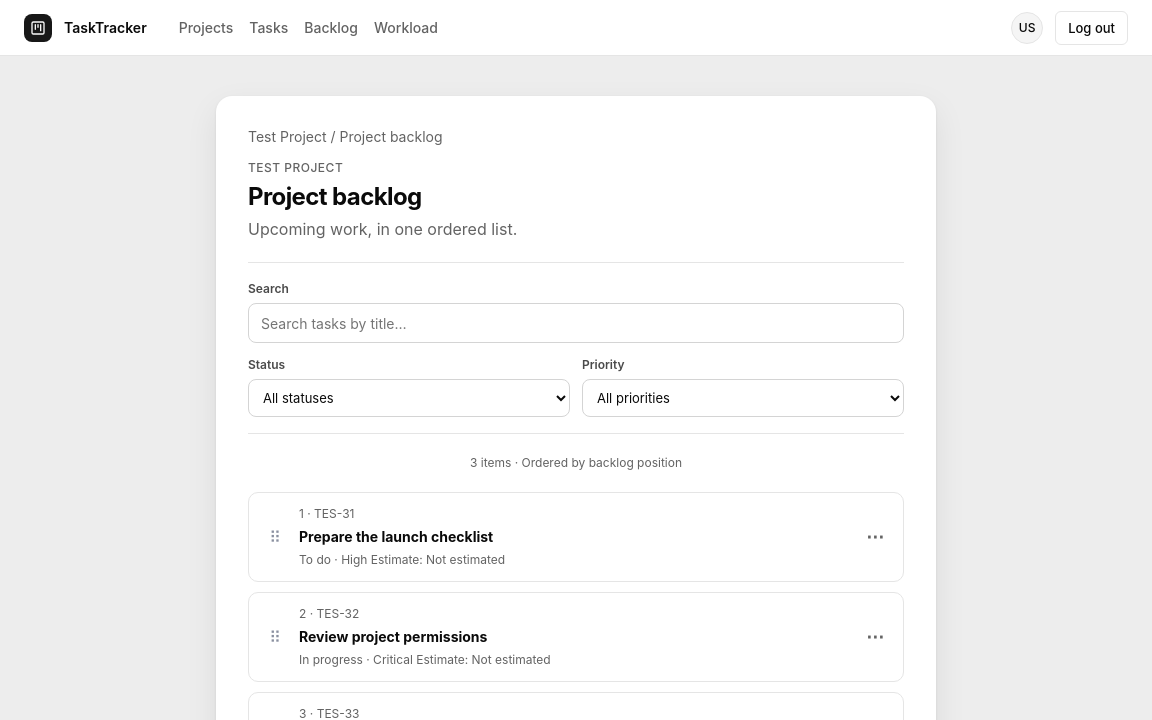
Test: [US-24] Prioritize and Reorder Backlog Items (T1WOR-163) › moves item to a global position using the Move to Position modal (State 03)
Check: the heading "Project backlog" is shown, box [248,181,422,213]
# Open item actions on task-1
Click the button with test id "backlog-item-actions-btn-task-1".
click(875, 537)  # box [861,523,889,551]
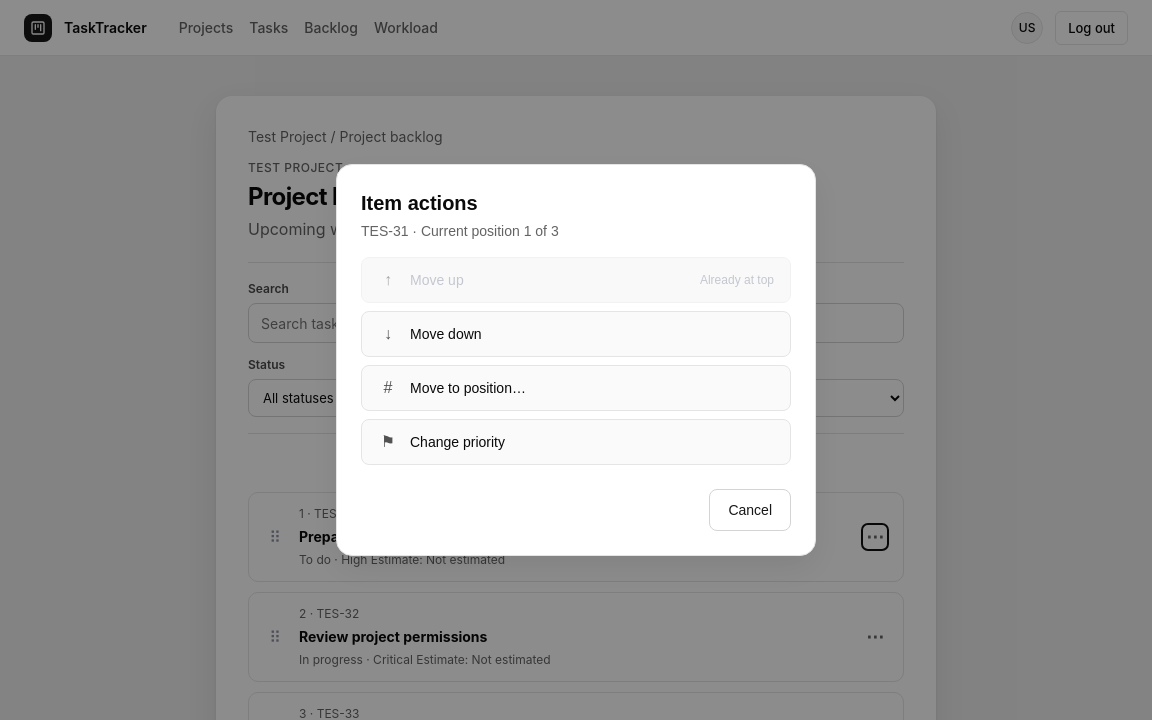
# Click "Move to position…"
Click the button with test id "backlog-action-move-position".
click(468, 388)  # box [361,365,791,411]
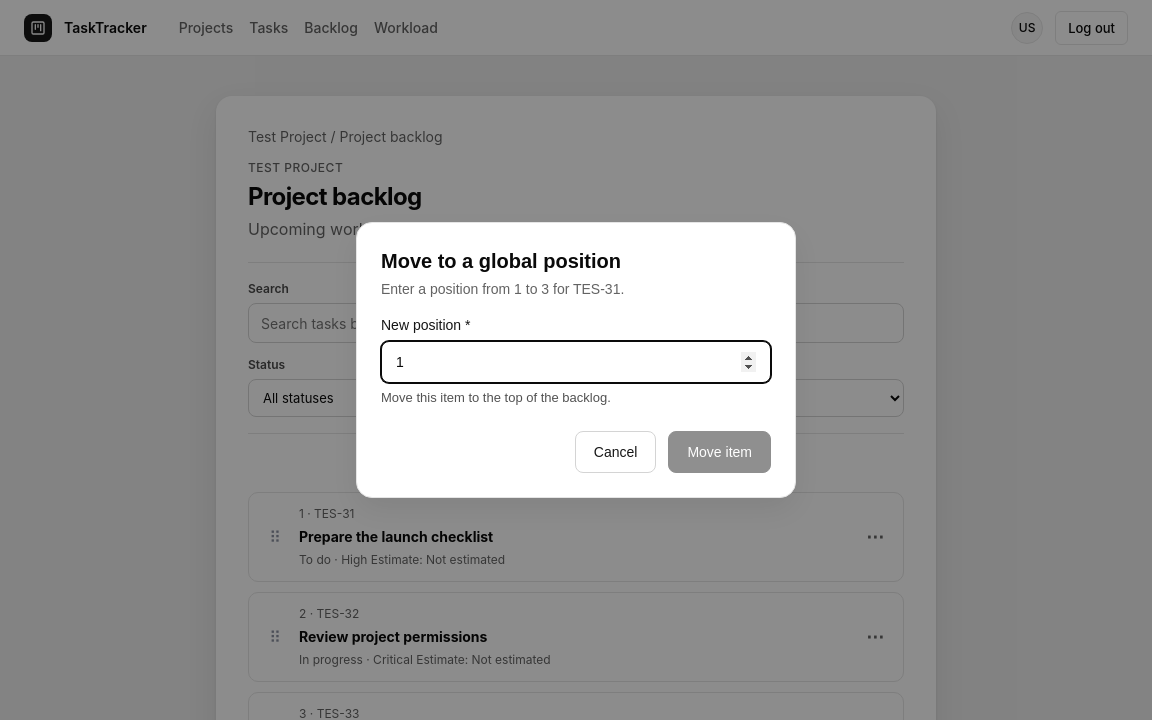
Check: the element with test id "backlog-move-position-modal" is shown
Check: the heading "Move to a global position" is shown, box [381,250,621,272]
Check: the text "Enter a position from 1 to 3 for TES-31." is shown, box [381,281,624,297]
Replace the text in the number field with test id "backlog-position-input" with "3" at point(576, 362), box [381,341,771,383]
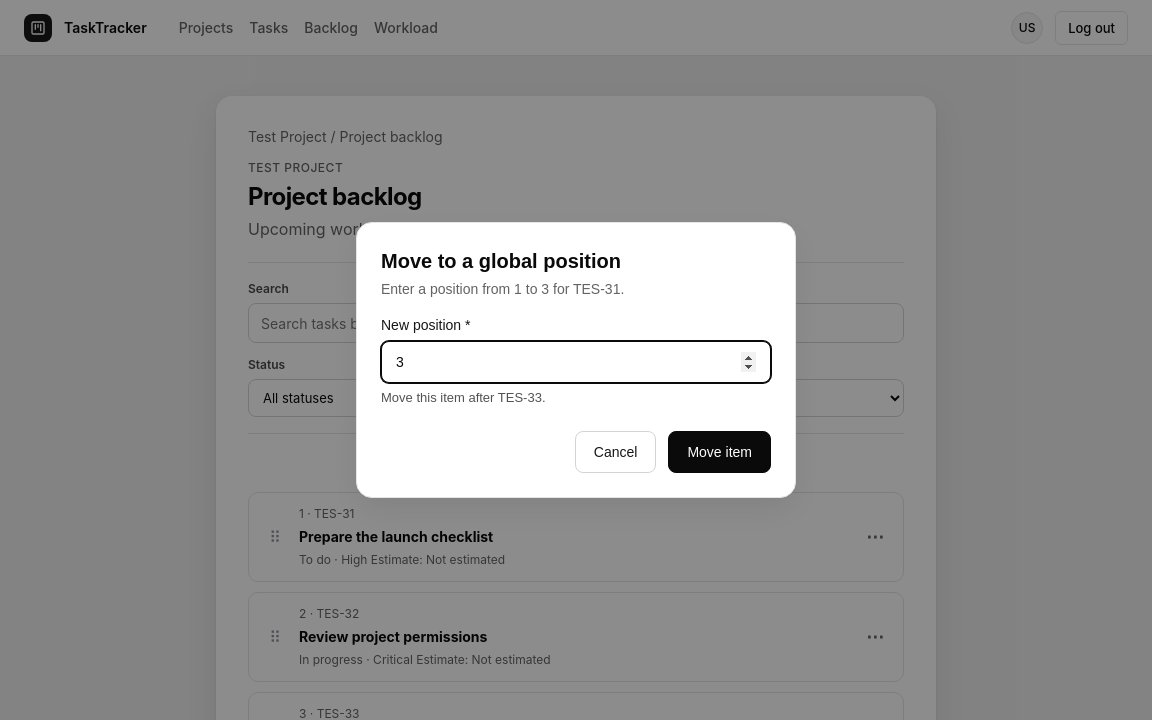
Check: the text with test id "backlog-position-preview" reads "Move this item after TES-33.", box [381,390,546,405]
Check: the button with test id "backlog-move-submit-btn" is enabled
Click the button with test id "backlog-move-submit-btn".
click(720, 452)  # box [668,431,771,473]
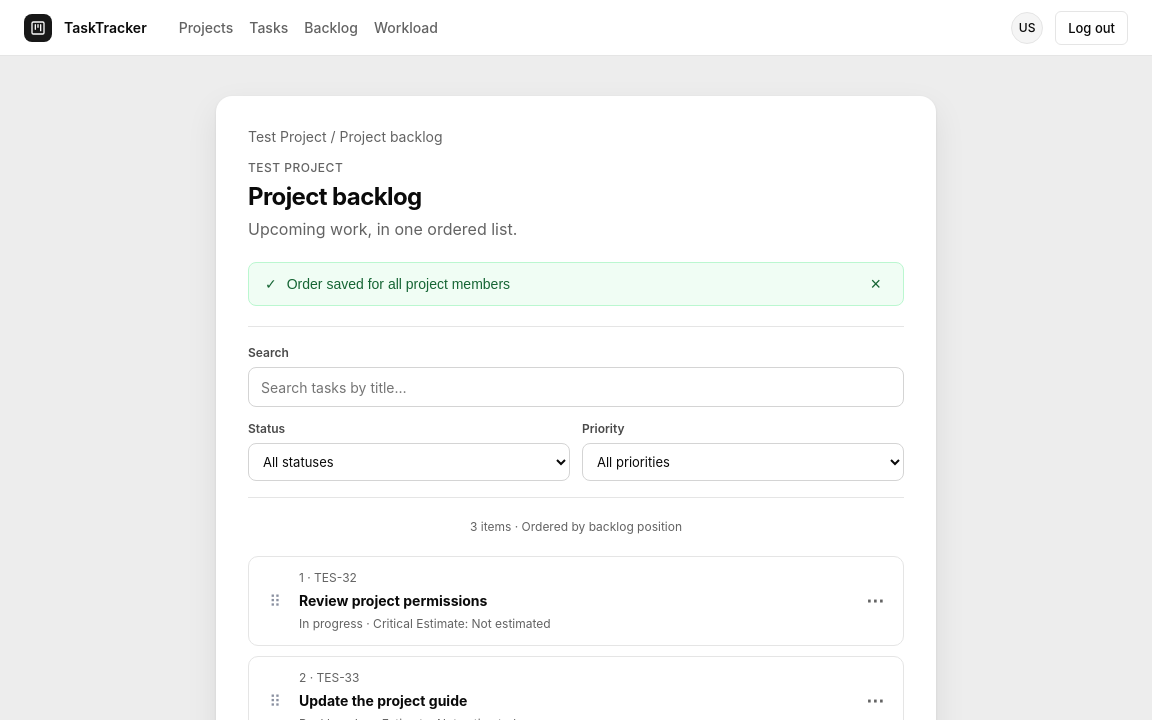
Check: the message "✓ Order saved for all project members ×" is shown, box [248,262,904,306]
